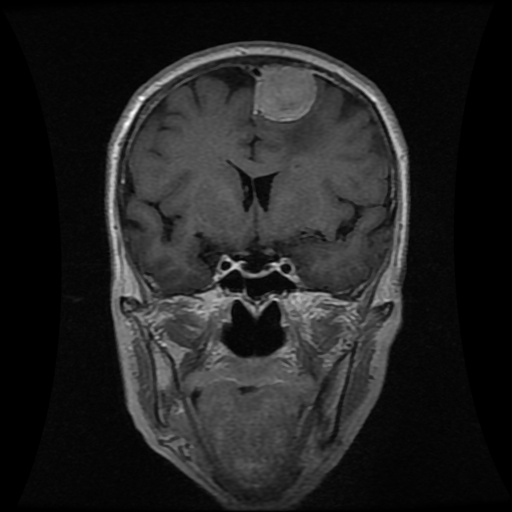meningioma: (256, 68, 315, 117)
